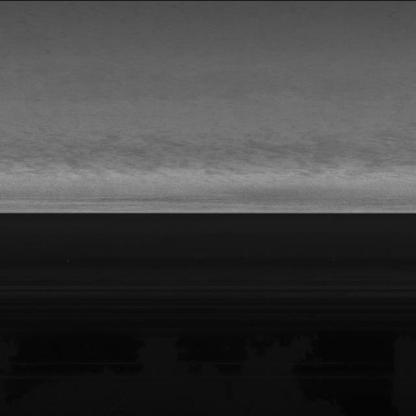silk_spot: (162, 136, 292, 172)
